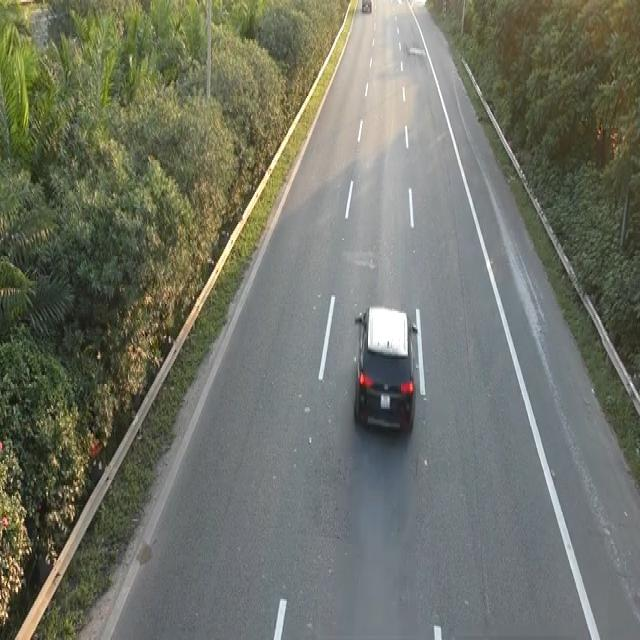car: (351, 300, 418, 436)
